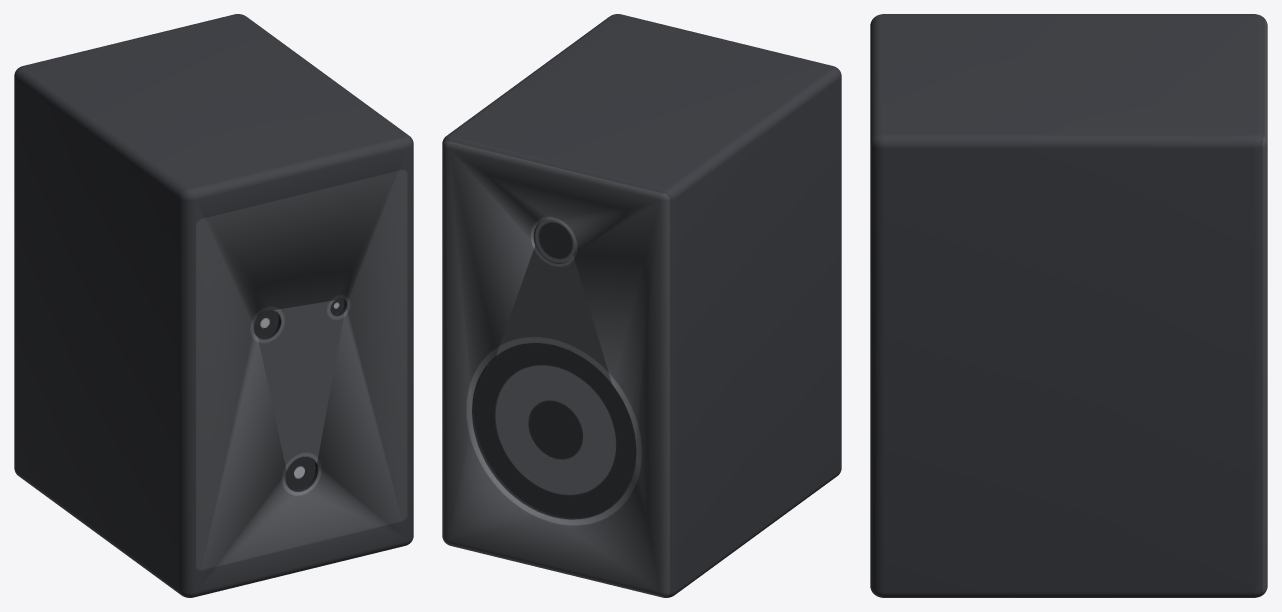
The model's file is yamaha-hs5.glb.
3 renders of one model, left to right at view 1: azimuth 30°, elevation 25°; view 2: azimuth 150°, elevation 25°; view 3: azimuth 270°, elevation 25°, orthographic. The views are drawn at different scales.
Visible parts, largest first — view 1: yamaha-hs5-body; view 2: yamaha-hs5-body; view 3: yamaha-hs5-body.
Boxes of the visible parts, x1=… form: yamaha-hs5-body: x1=14, y1=14, x2=413, y2=597; yamaha-hs5-body: x1=442, y1=14, x2=841, y2=597; yamaha-hs5-body: x1=870, y1=14, x2=1267, y2=597.
Bounding box in the file's own units: 0.17 × 0.285 × 0.222.
Materials: 1 (1 with a texture image).
